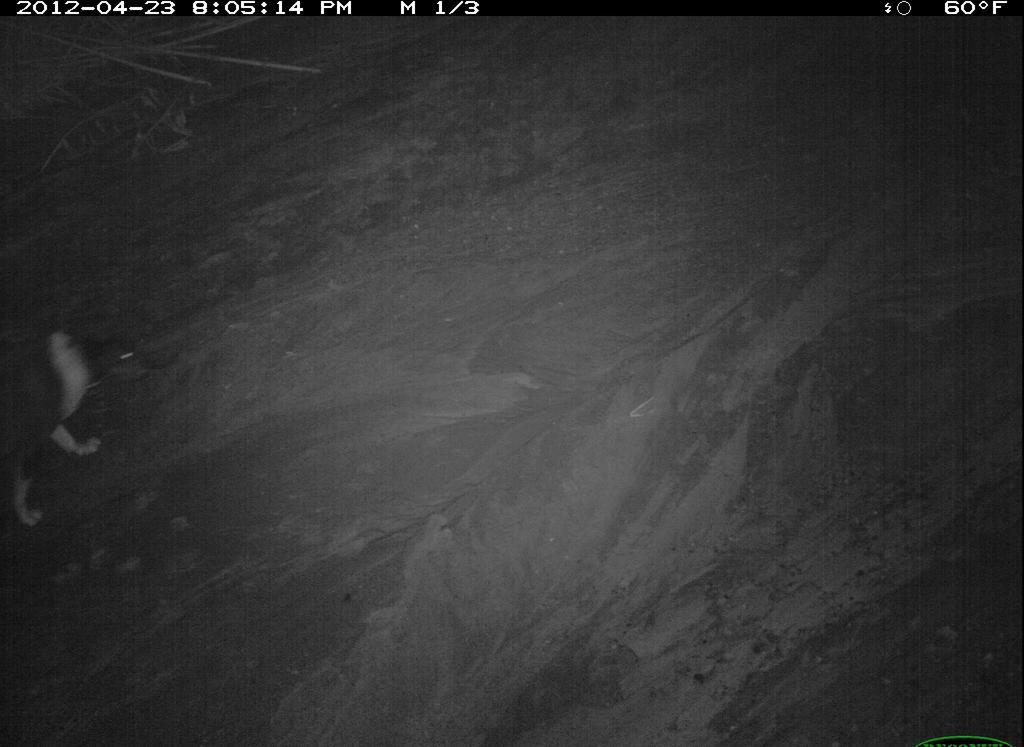dog: (11, 624, 301, 747)
